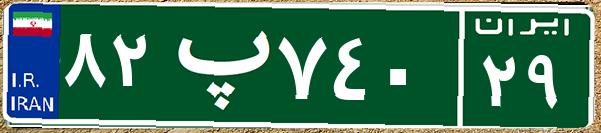0: (385, 28, 445, 110)
2: (475, 38, 525, 113), (110, 28, 158, 105)
4: (330, 28, 385, 110)
7: (273, 28, 330, 110)
8: (57, 26, 110, 107)
9: (525, 38, 570, 115)
پ: (158, 15, 273, 115)
